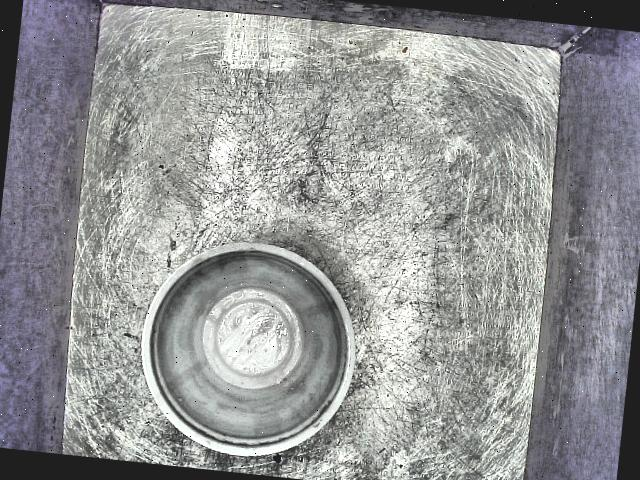Plastic: (107, 228, 376, 480)
